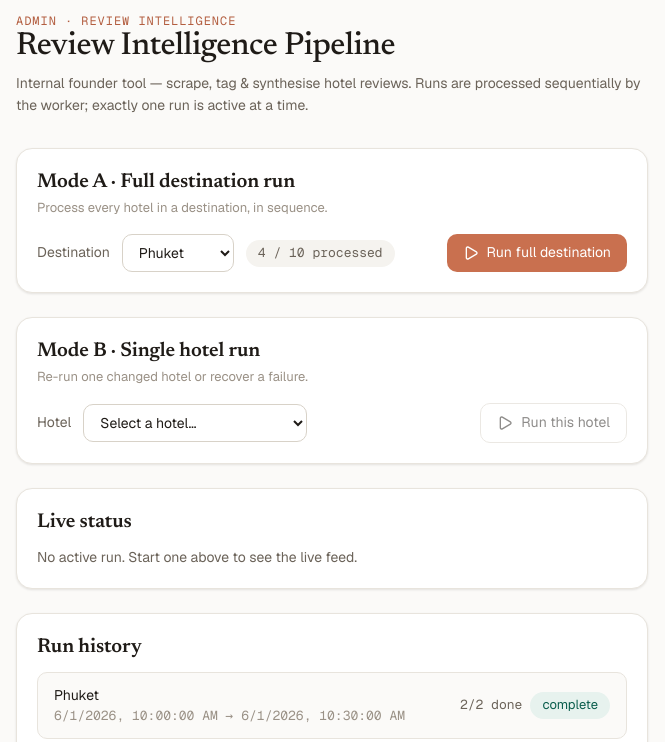
Test: Review Intelligence admin page › (d) a 409 run_already_active surfaces the message without crashing
Click the button "Run full destination" at (537, 253), box left=446, top=234, right=627, bottom=272
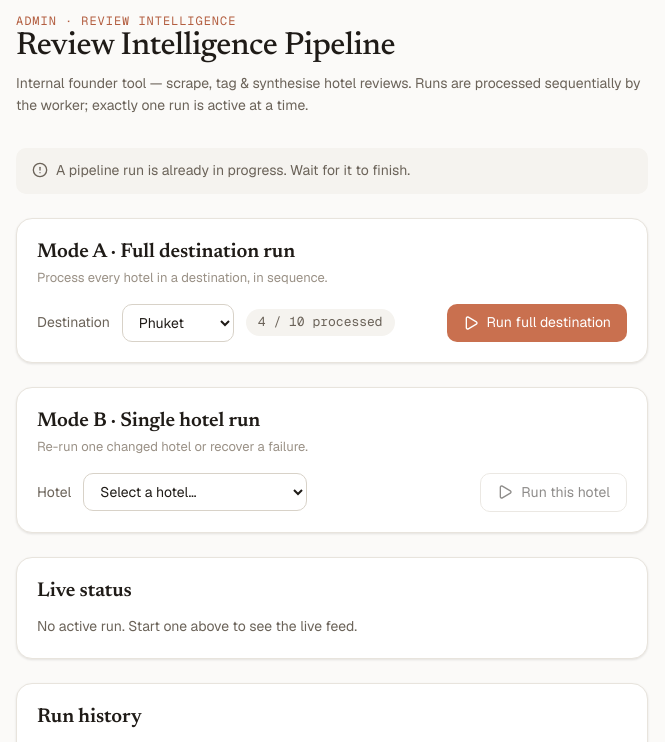
Expected: the heading "Review Intelligence Pipeline" is shown, left=16, top=30, right=395, bottom=62
Expected: the text "already in progress" is shown, left=56, top=161, right=410, bottom=179
